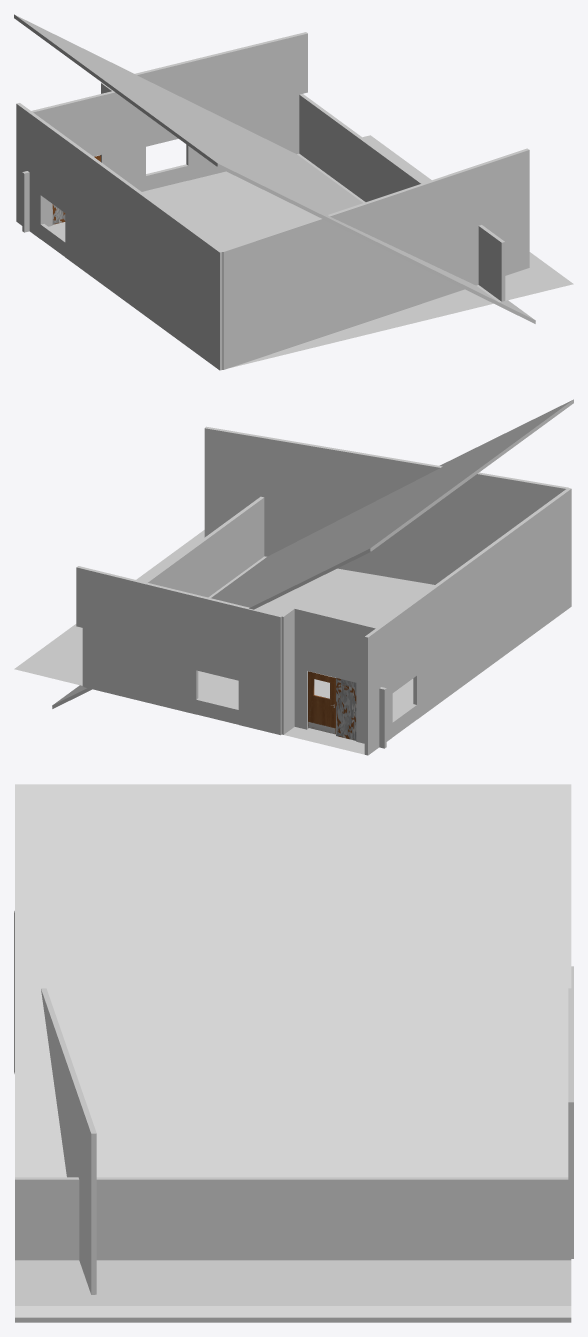
The model's file is Habitacion 1.fbx.
3 renders of one model, top to bottom at view 1: azimuth 30°, elevation 25°; view 2: azimuth 150°, elevation 25°; view 3: azimuth 270°, elevation 25°, orthographic. The views are drawn at different scales.
Parts seen in each view (by area): view 1: Cube__12_, Cube__7_, techo, Cube__10_, Plane, Cube__11_, Cube__6_, Cube__9_, Cube__4_, Cube__8_, Cube__5__2, Cube__2__1 (+5 smaller); view 2: Cube__12_, Cube__10_, Cube__11_, techo, Plane, Cube__7_, Cube__6_, Cube__9_, Cube__8_, Cube__4_, Meshy_AI_low_poly_wooden_door_20261030_texture, Cube__2_ (+12 smaller); view 3: techo, Cube__9_, Plane, Cube__12_, Cube__7_, Cube__11_.
Part boxes in pixels (x1,y1,x2,y2): Cube__12_: (222,148,529,310); Cube__7_: (222,209,529,369); techo: (14,14,535,323); Cube__10_: (16,103,222,311); Plane: (48,135,573,367); Cube__11_: (116,32,307,138); Cube__6_: (77,207,222,370); Cube__9_: (299,94,505,301); Cube__4_: (30,91,115,156); Cube__8_: (209,94,299,175); Cube__5__2: (125,132,145,191); Cube__2__1: (29,173,44,239); Cube__12_: (204,426,568,536); Cube__10_: (364,488,571,696); Cube__11_: (76,566,281,676); techo: (52,399,573,708); Plane: (14,530,434,754); Cube__7_: (204,487,500,584); Cube__6_: (429,548,571,710); Cube__9_: (82,496,264,685); Cube__8_: (83,628,174,709); Cube__4_: (293,607,379,684); Meshy_AI_low_poly_wooden_door_20261030_texture: (308,671,335,734); Cube__2_: (259,671,281,735); techo: (15,784,571,1322); Cube__9_: (15,1177,571,1260); Plane: (15,1260,571,1305); Cube__12_: (14,910,96,1214); Cube__7_: (14,992,96,1294); Cube__11_: (568,966,573,1182).
Bounding box in the file's own units: 2550 × 1618 × 2518.
2 materials, 1 textured.
